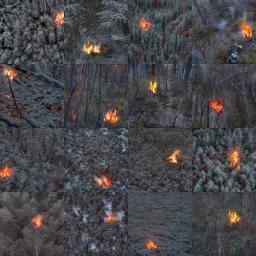Small fire: (103, 108, 128, 132), (141, 18, 158, 37), (0, 61, 18, 78), (27, 211, 46, 226), (0, 163, 16, 180), (147, 78, 161, 97), (80, 42, 102, 54), (96, 171, 111, 188), (240, 22, 252, 43), (226, 210, 241, 224), (167, 150, 181, 163), (230, 152, 241, 167), (145, 238, 157, 249), (208, 101, 221, 111), (52, 11, 62, 23)
